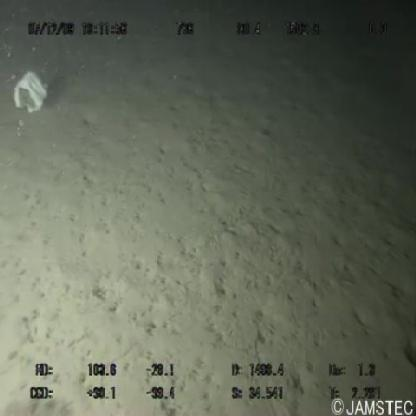Rác: (11, 65, 51, 119)
